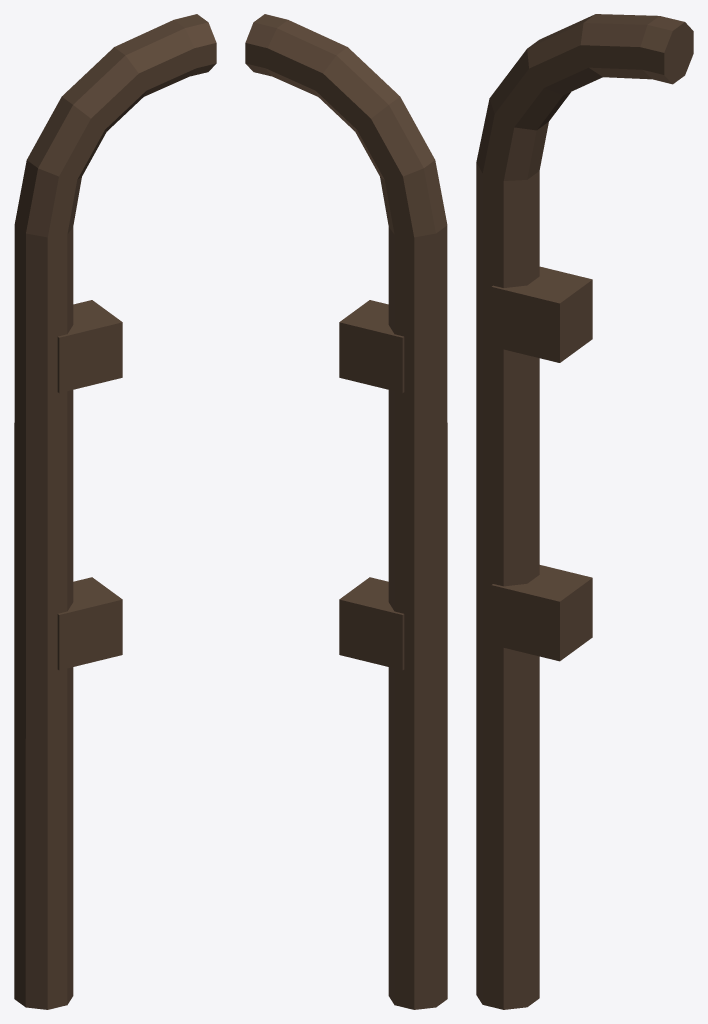
Rendered from SM_Street_GuardPipe_Brown_End_01.gltf.
The picture shows the model from 3 angles, left to right: view 1: azimuth 30°, elevation 25°; view 2: azimuth 150°, elevation 25°; view 3: azimuth 330°, elevation 25°; orthographic projection. The views are drawn at different scales.
Visible parts, largest first — view 1: SM_Street_GuardPipe_Brown_End_01; view 2: SM_Street_GuardPipe_Brown_End_01; view 3: SM_Street_GuardPipe_Brown_End_01.
Boxes of the visible parts, left/top/right/bottom form: SM_Street_GuardPipe_Brown_End_01: left=14, top=14, right=216, bottom=1009; SM_Street_GuardPipe_Brown_End_01: left=245, top=14, right=447, bottom=1009; SM_Street_GuardPipe_Brown_End_01: left=476, top=14, right=693, bottom=1009.
Bounding box in the file's own units: 0.1725 × 0.8482 × 0.05.
Materials: 1 (1 with a texture image).
